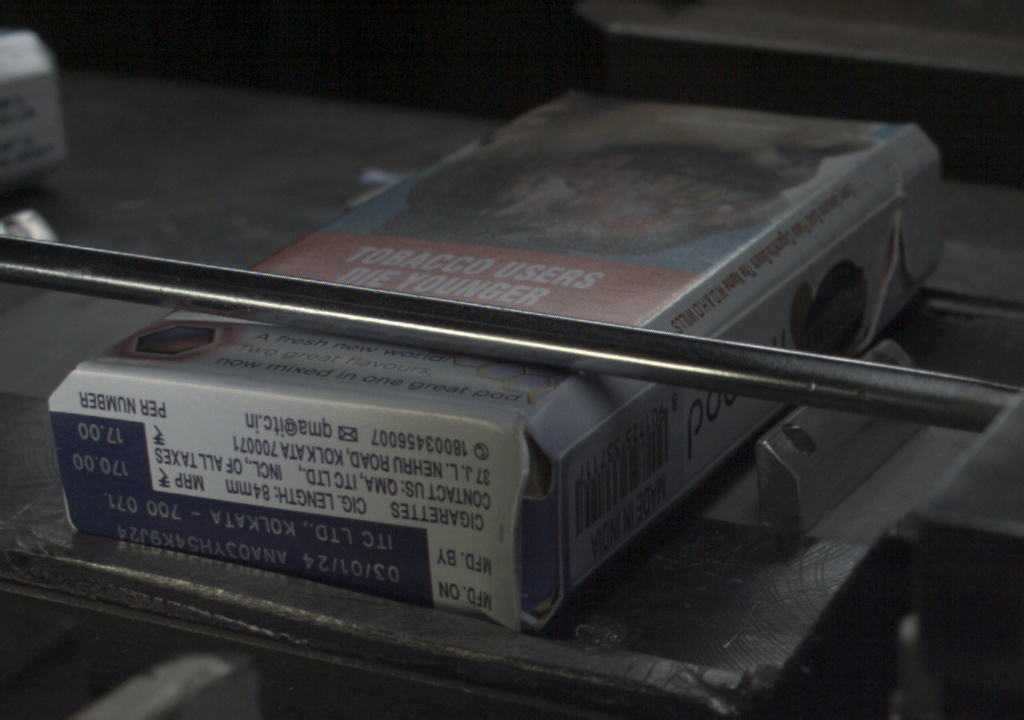g_label: (64, 485, 432, 603)
g_lmiter: (717, 259, 813, 332), (815, 195, 889, 256), (557, 417, 602, 456), (603, 381, 650, 417)
ng_bottom: (498, 426, 558, 629)
ng_miter: (889, 158, 966, 282)
price: (56, 414, 147, 485)
